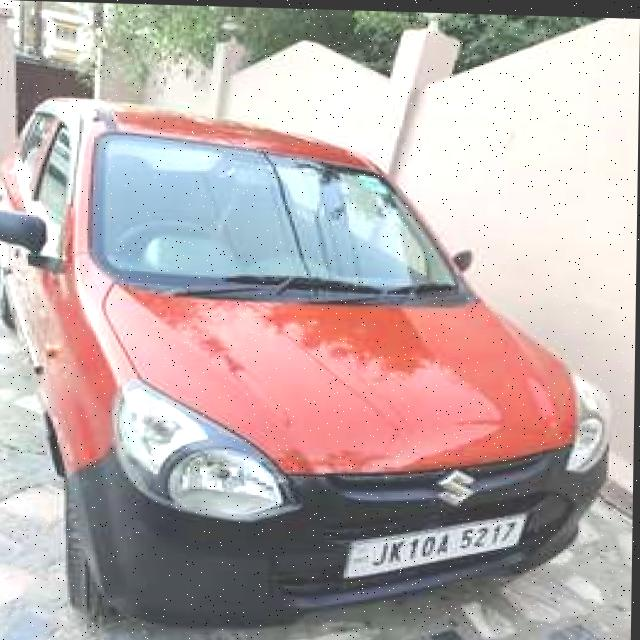plate: (340, 503, 528, 582)
